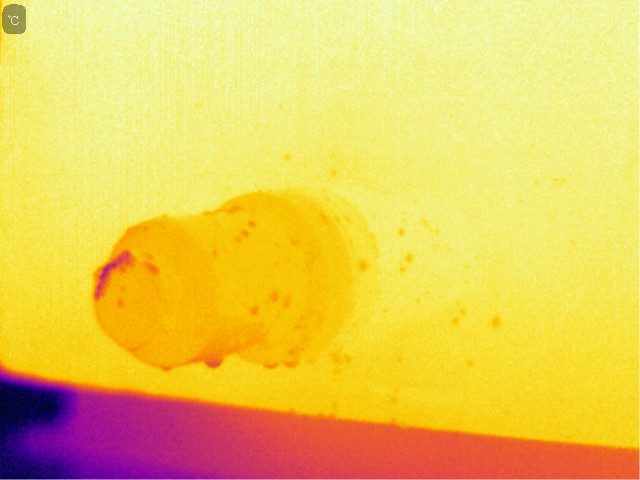Water: (196, 348, 229, 372), (278, 288, 299, 312), (355, 256, 375, 275), (264, 287, 286, 303), (142, 262, 166, 276), (246, 215, 268, 229), (262, 359, 283, 372), (245, 303, 263, 318), (226, 204, 245, 215), (284, 358, 301, 370), (402, 254, 420, 265), (159, 363, 176, 374), (285, 346, 302, 356), (238, 227, 252, 238), (393, 225, 407, 236), (488, 315, 500, 326)
